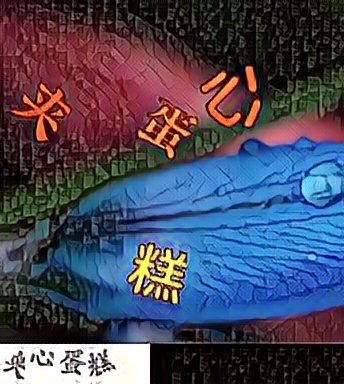B5B0: (136, 95, 197, 160)
B8E2: (128, 240, 189, 305)
BCD0: (11, 79, 72, 144)
D0C4: (200, 64, 261, 129)
